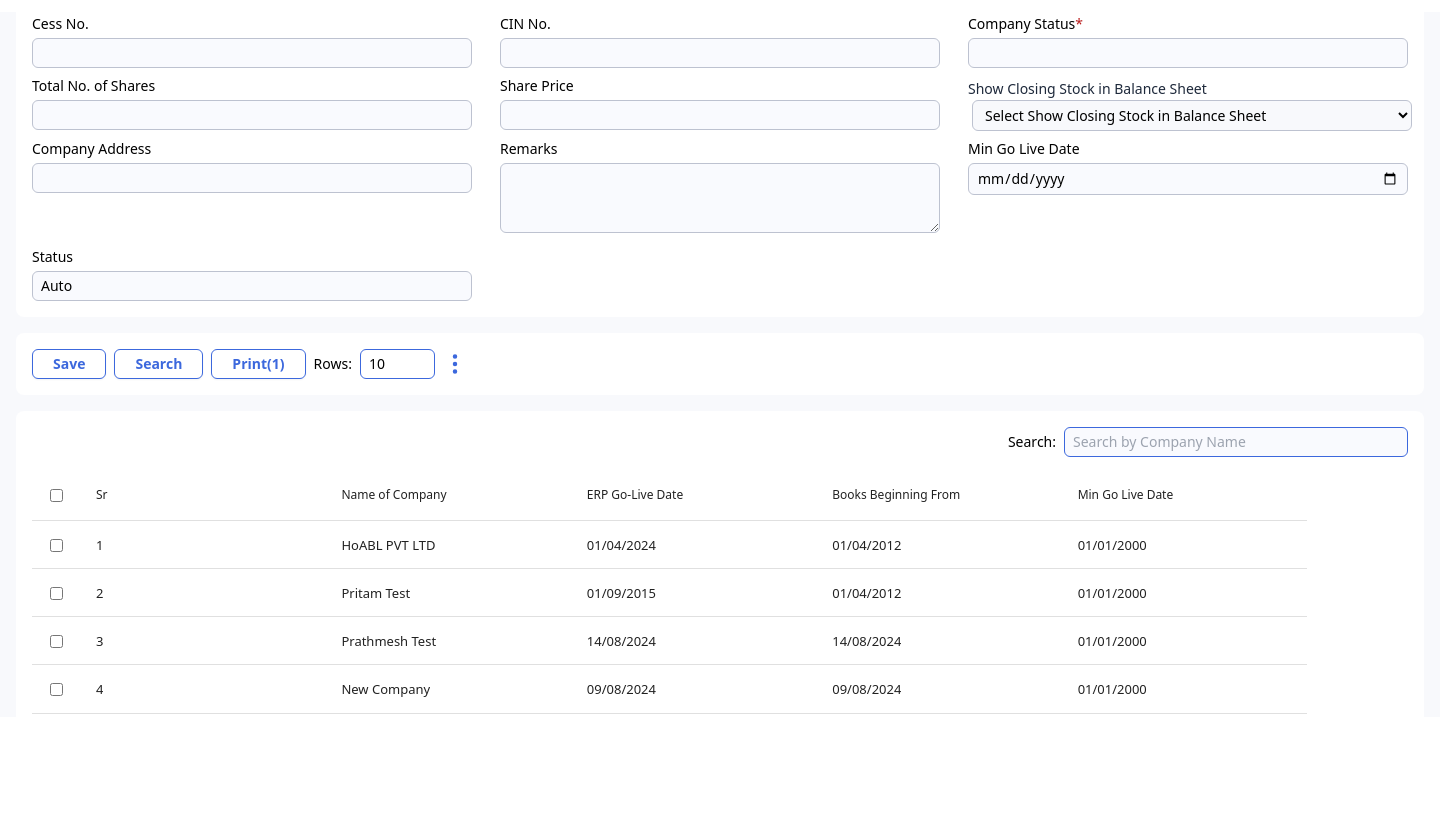
Test case: DynamicForm Component › shows validation error messages for all required fields on form submission
(page scrolled)
Step 1. Click the button "Save" → click(69, 364), box x1=32 y1=349 x2=106 y2=379
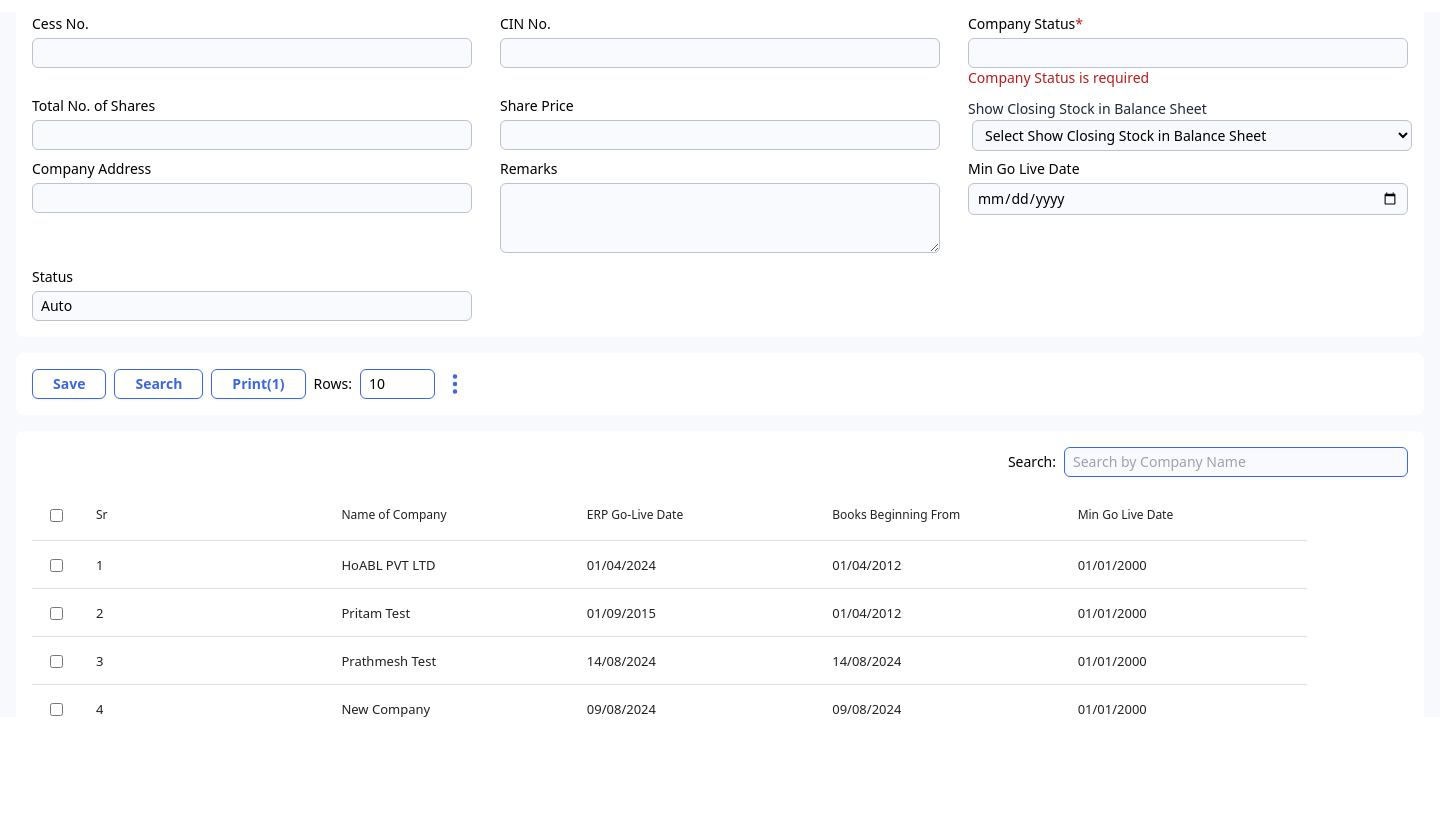
Now the text "Company Status is required" is shown, box x1=968 y1=68 x2=1149 y2=87
